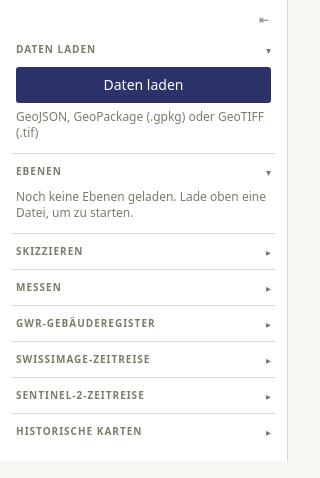
Test case: SidebarPanels (stack mode) › collapses and expands a panel via its header
What coordinates should you click on to do the following:
click the button "Ebenen ▾"
I would click on:
 (39, 171)
Its box is [12,158,275,185].
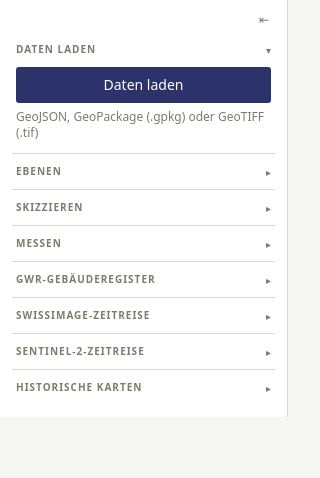
Result: the text "Noch keine Ebenen geladen" is gone
What coordinates should you click on to do the following:
click the button "Ebenen ▸"
I would click on:
 (39, 171)
Its box is [12,158,275,185].
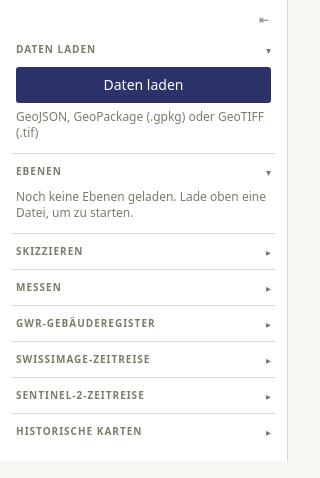
Result: the text "Noch keine Ebenen geladen" is shown at [16,188,266,221]
